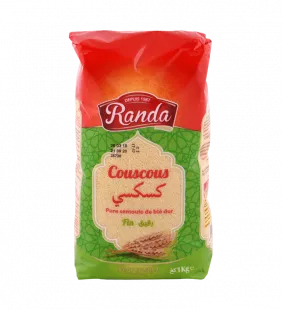RANDA: (60, 20, 221, 290)
